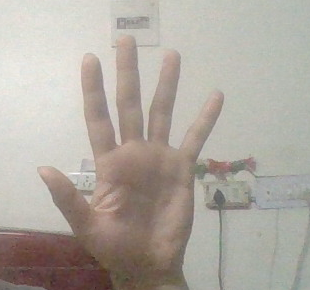move: (35, 35, 222, 290)
